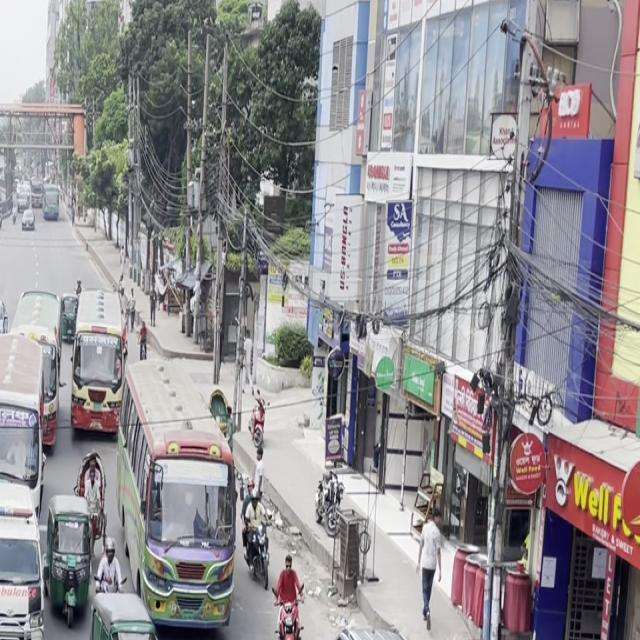bus: (115, 352, 242, 639), (0, 334, 59, 488), (67, 323, 126, 446)
car: (0, 473, 50, 640), (310, 612, 479, 640), (0, 635, 45, 640)
motorbike: (269, 552, 310, 640), (242, 514, 273, 593)
rickshaw: (40, 488, 102, 631), (76, 587, 170, 640)
